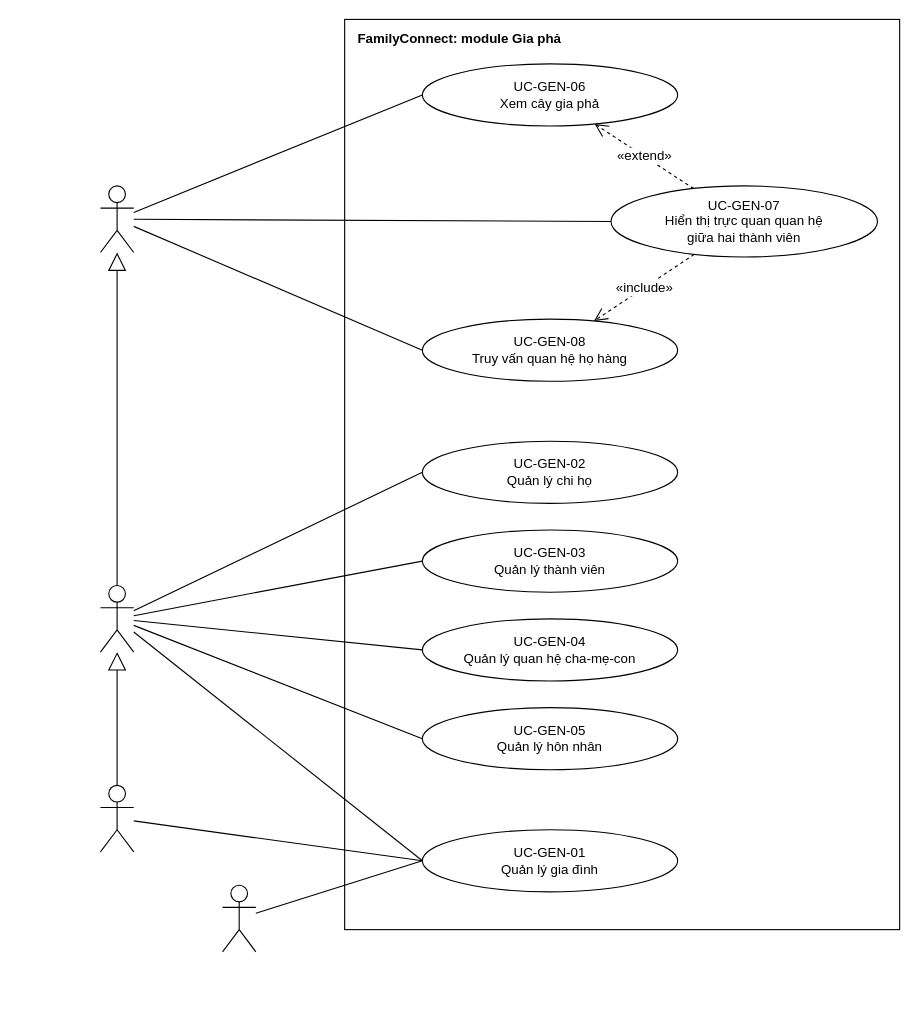
Image size: 919x1011. Some labels were removed from this diagram. Here are the shapes that lost their labels. From the top down, the centre of each, then its label:
At (x=116, y=219): "Thành viên đã xác minh".
At (x=116, y=618): "Trưởng chi".
At (x=116, y=818): "Quản trị hệ thống".
At (x=238, y=918): "Thành viên chưa xác minh".
